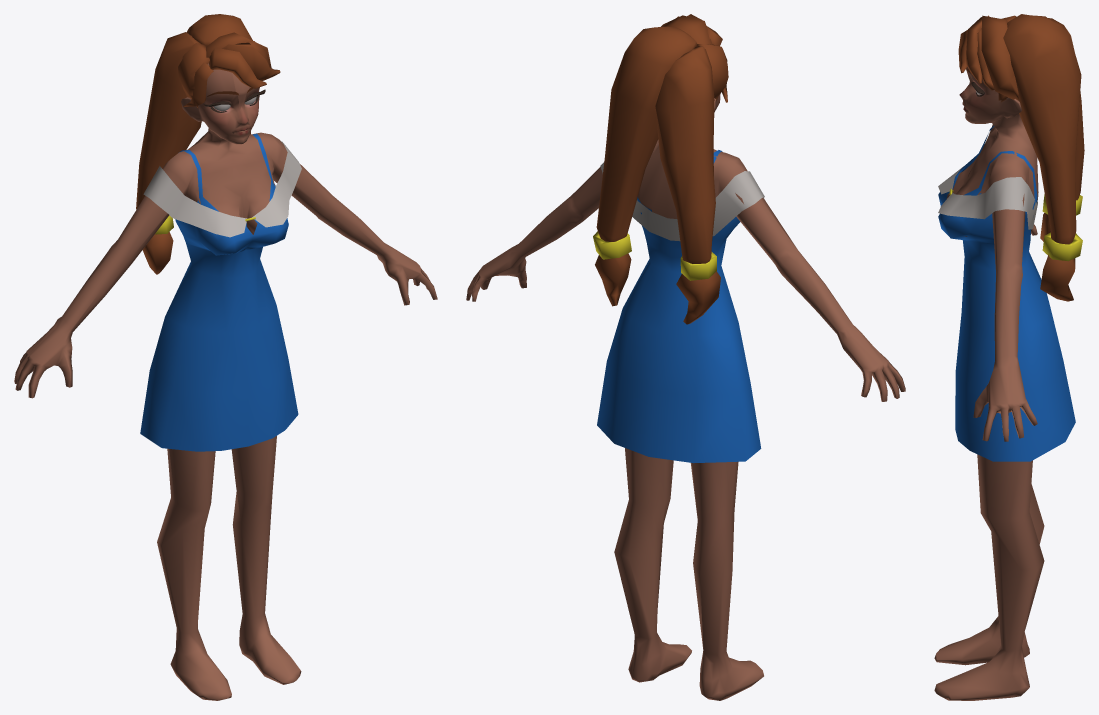
The model's file is Emma_01.fbx.
The picture shows the model from 3 angles, left to right: view 1: azimuth 30°, elevation 25°; view 2: azimuth 150°, elevation 25°; view 3: azimuth 270°, elevation 25°; orthographic projection. The views are drawn at different scales.
Parts seen in each view (by area): view 1: Merged_Extract11; view 2: Merged_Extract11; view 3: Merged_Extract11.
Boxes of the visible parts, box(x1,y1,x2,y2) form: Merged_Extract11: box(14, 14, 437, 700); Merged_Extract11: box(466, 14, 905, 700); Merged_Extract11: box(934, 14, 1084, 700).
Size of the model in its own units: 9.55 by 14.08 by 2.89.
